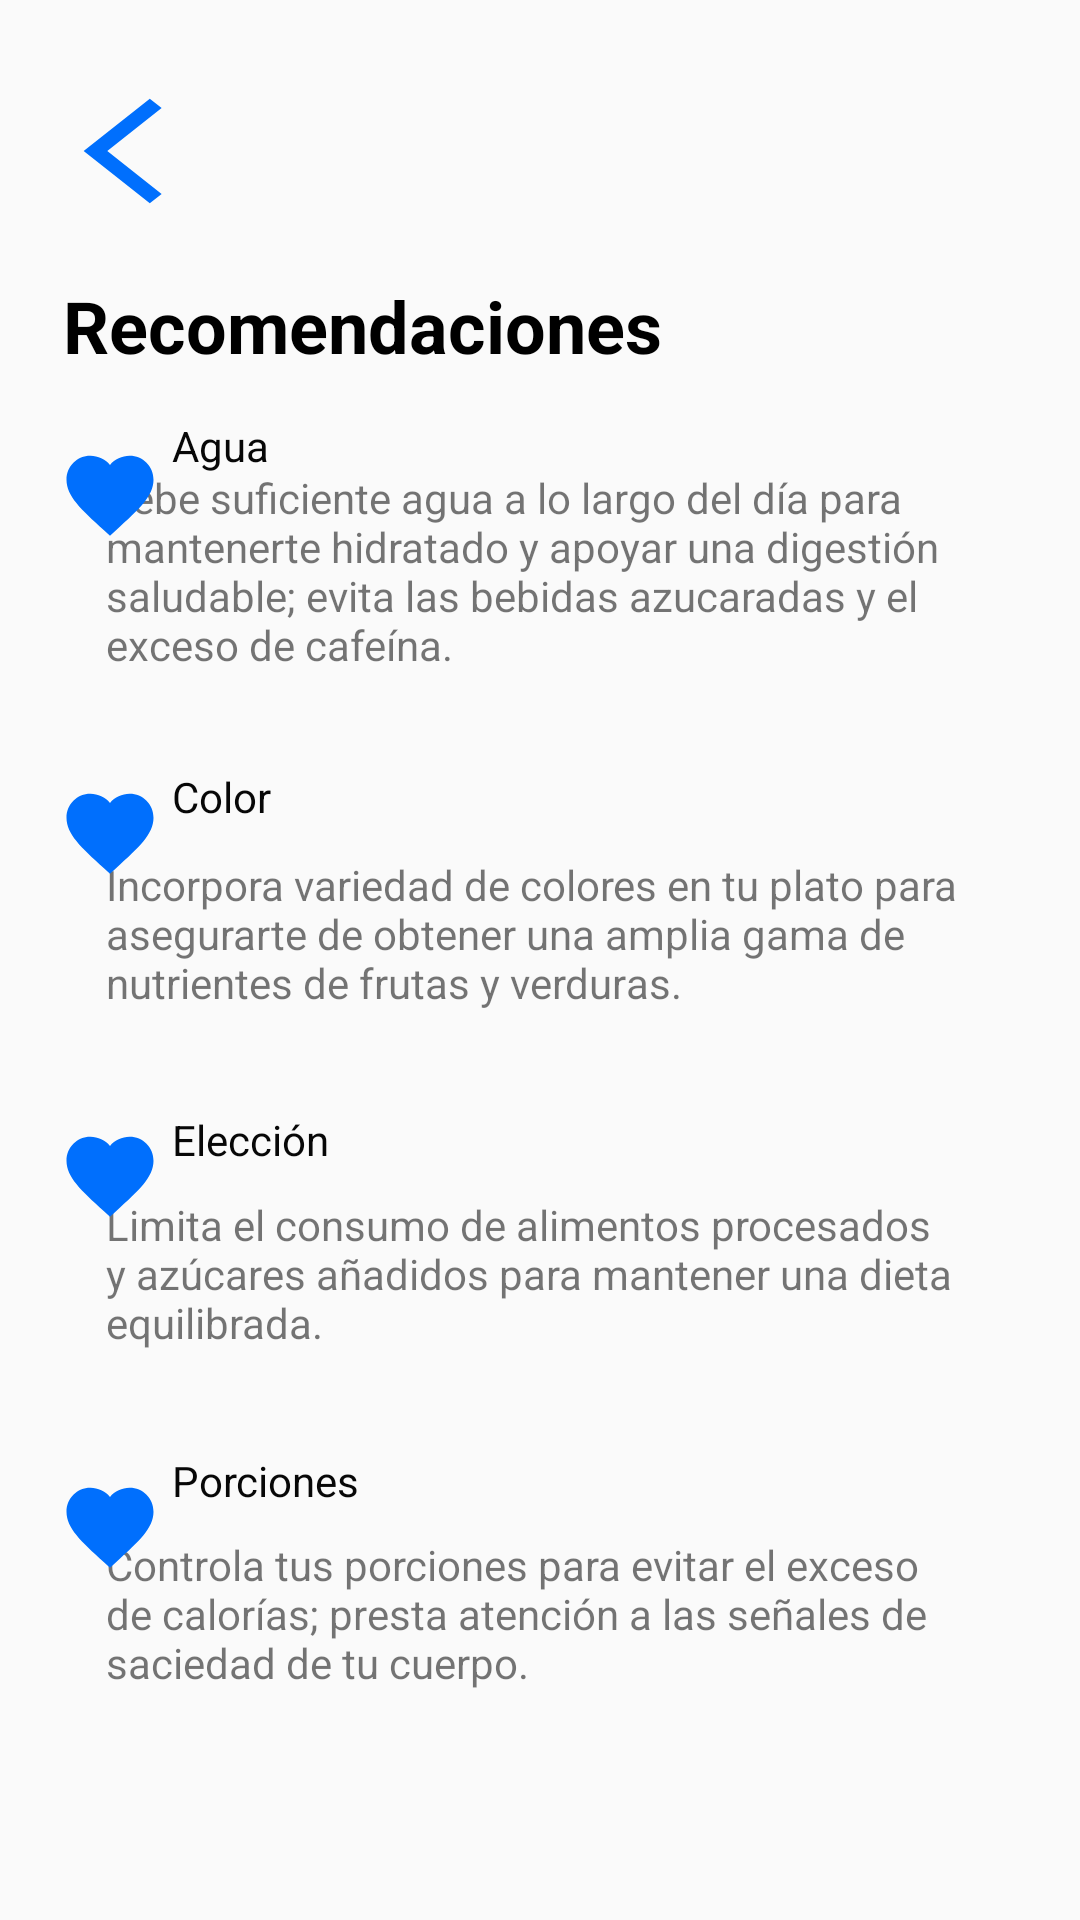

Icon click points for this 1080w x 1920h phone screenshot, format point (x, y):
back: point (123, 151)
